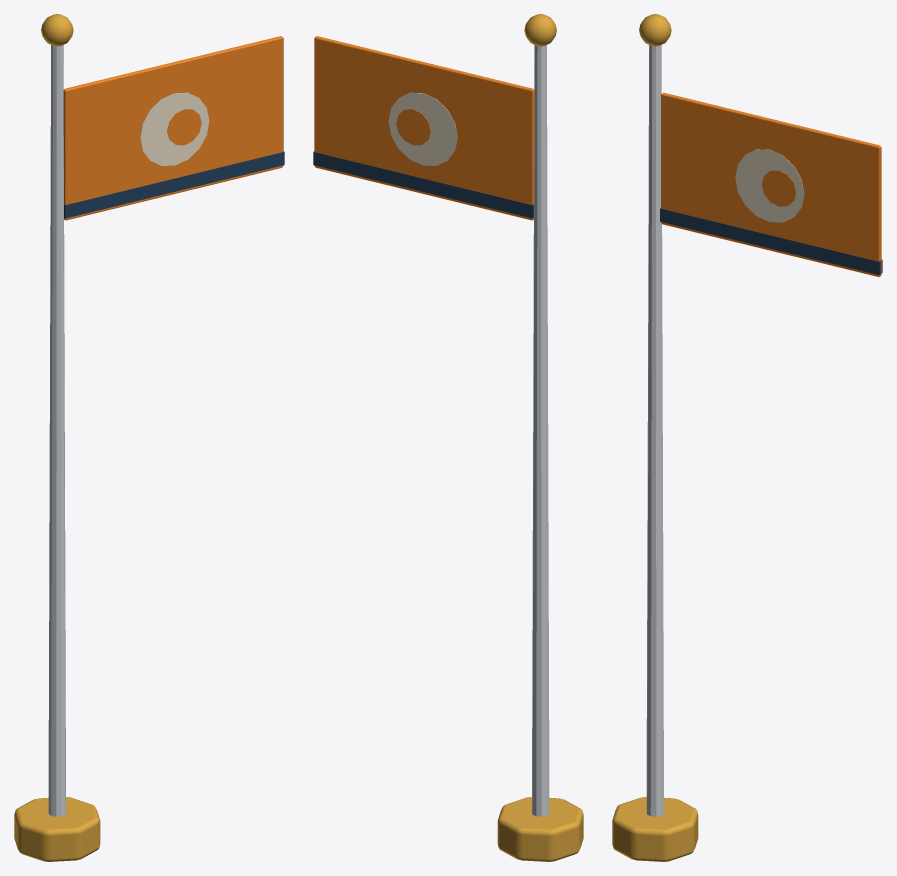
File: flag_pole.glb
3 views of the same model, side by side, from view 1: azimuth 30°, elevation 25°; view 2: azimuth 150°, elevation 25°; view 3: azimuth 330°, elevation 25° (orthographic).
Visible parts, largest first — view 1: flag, flag_pole_body; view 2: flag, flag_pole_body; view 3: flag, flag_pole_body.
Boxes of the visible parts, box(x1,y1,x2,y2) form: flag: box(63, 36, 284, 220); flag_pole_body: box(14, 14, 100, 861); flag: box(313, 36, 534, 220); flag_pole_body: box(497, 14, 583, 861); flag: box(660, 92, 882, 277); flag_pole_body: box(612, 14, 698, 861).
Size of the model in its own units: 1.69 by 5.06 by 0.4865.
